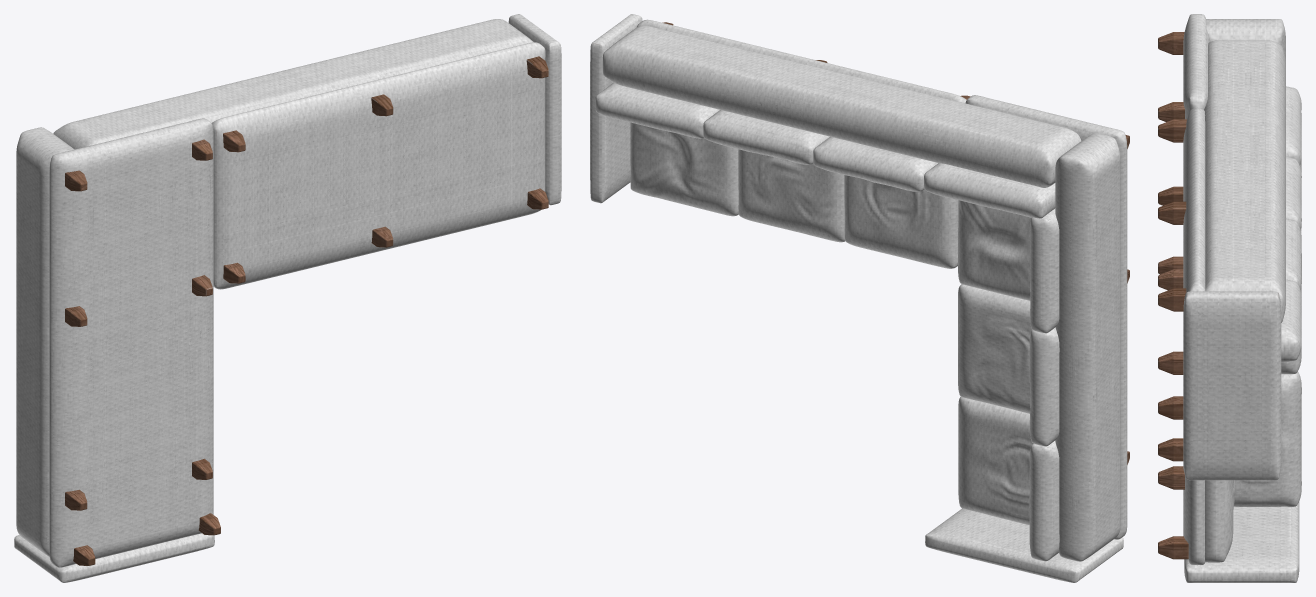
The model's file is Sofa.fbx.
3 views of the same model, side by side, from view 1: azimuth 30°, elevation 25°; view 2: azimuth 150°, elevation 25°; view 3: azimuth 270°, elevation 25° (orthographic). The views are drawn at different scales.
Parts seen in each view (by area): view 1: Cube.205; view 2: Cube.205; view 3: Cube.205.
Boxes of the visible parts, box(x1,y1,x2,y2) form: Cube.205: box(14, 14, 561, 582); Cube.205: box(590, 14, 1129, 582); Cube.205: box(1158, 14, 1301, 582).
Bounding box in the file's own units: 329 × 264 × 70.31.
1 material, 1 textured.
